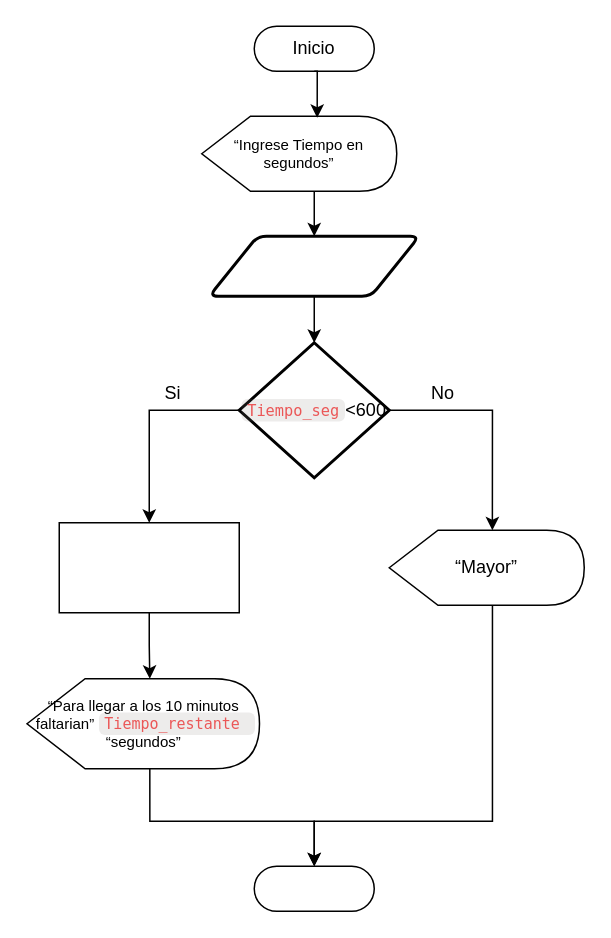
This 611x938 diagram has some shape labels left out. The centre of each missing label's shape, as x and y in pixels:
"Fin" goes at pixel 313 888.
"Tiempo_restante =600- Tiempo_seg" goes at pixel 148 567.
"Tiempo_seg" goes at pixel 313 265.
